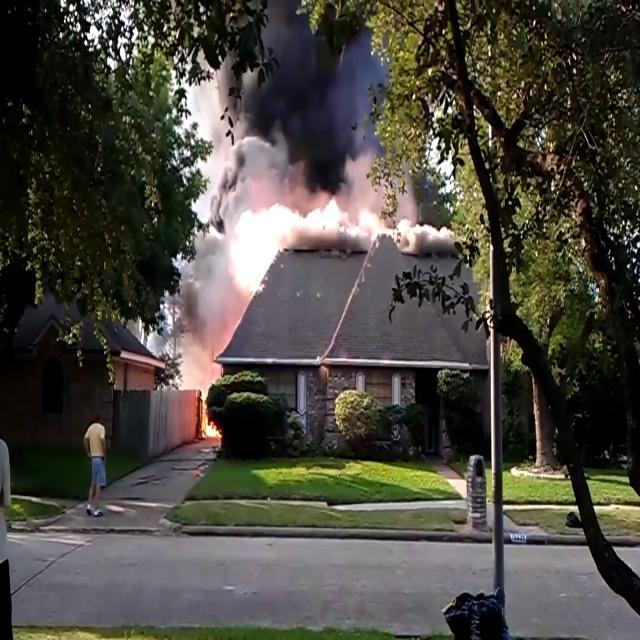Fire: (194, 386, 224, 444)
Smoke: (215, 1, 398, 252), (174, 235, 254, 366)
